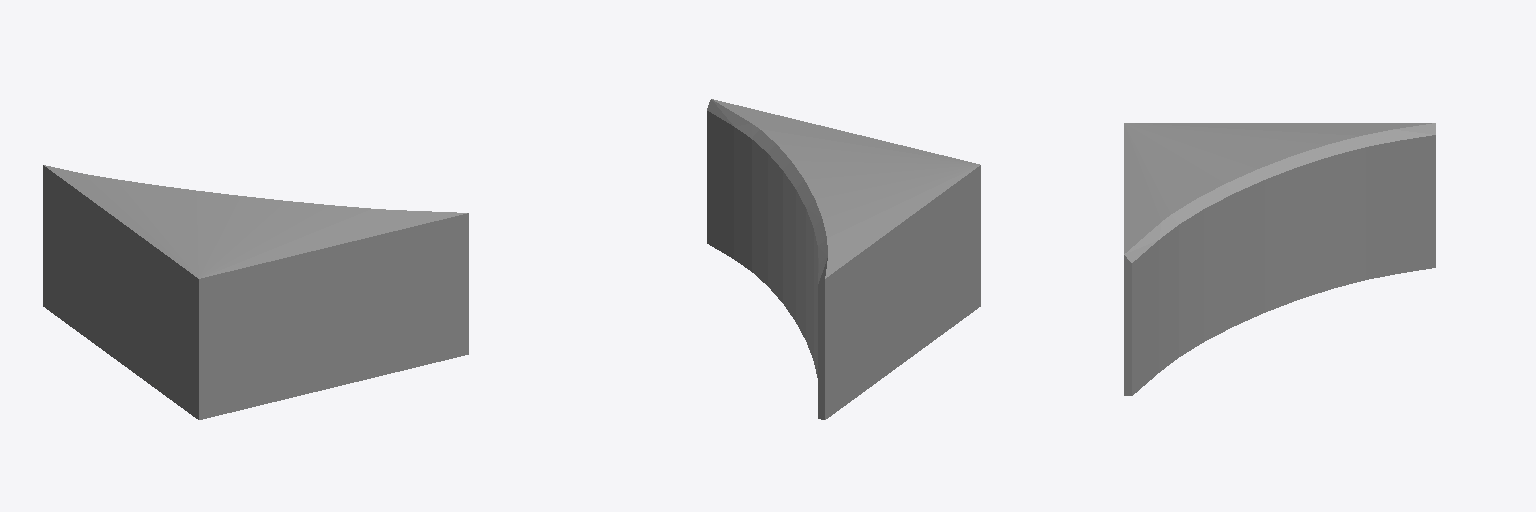
File: bot_curves_right.obj
3 views of the same model, side by side, from view 1: azimuth 30°, elevation 25°; view 2: azimuth 150°, elevation 25°; view 3: azimuth 270°, elevation 25° (orthographic).
Parts seen in each view (by area): view 1: Right_Cube.000; view 2: Right_Cube.000; view 3: Right_Cube.000.
Boxes of the visible parts, box(x1,y1,x2,y2) form: Right_Cube.000: box(43, 165, 468, 419); Right_Cube.000: box(707, 99, 980, 419); Right_Cube.000: box(1124, 123, 1435, 395).
Size of the model in its own units: 4 by 2.1 by 4.